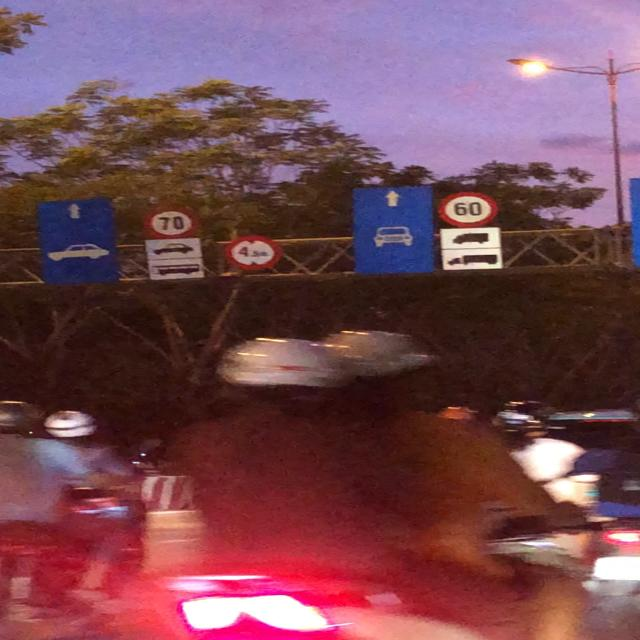Bien bao han che chieu cao: (222, 231, 286, 272)
Bien bao toc do toi da cho phep: (433, 188, 505, 231), (137, 204, 200, 242)
